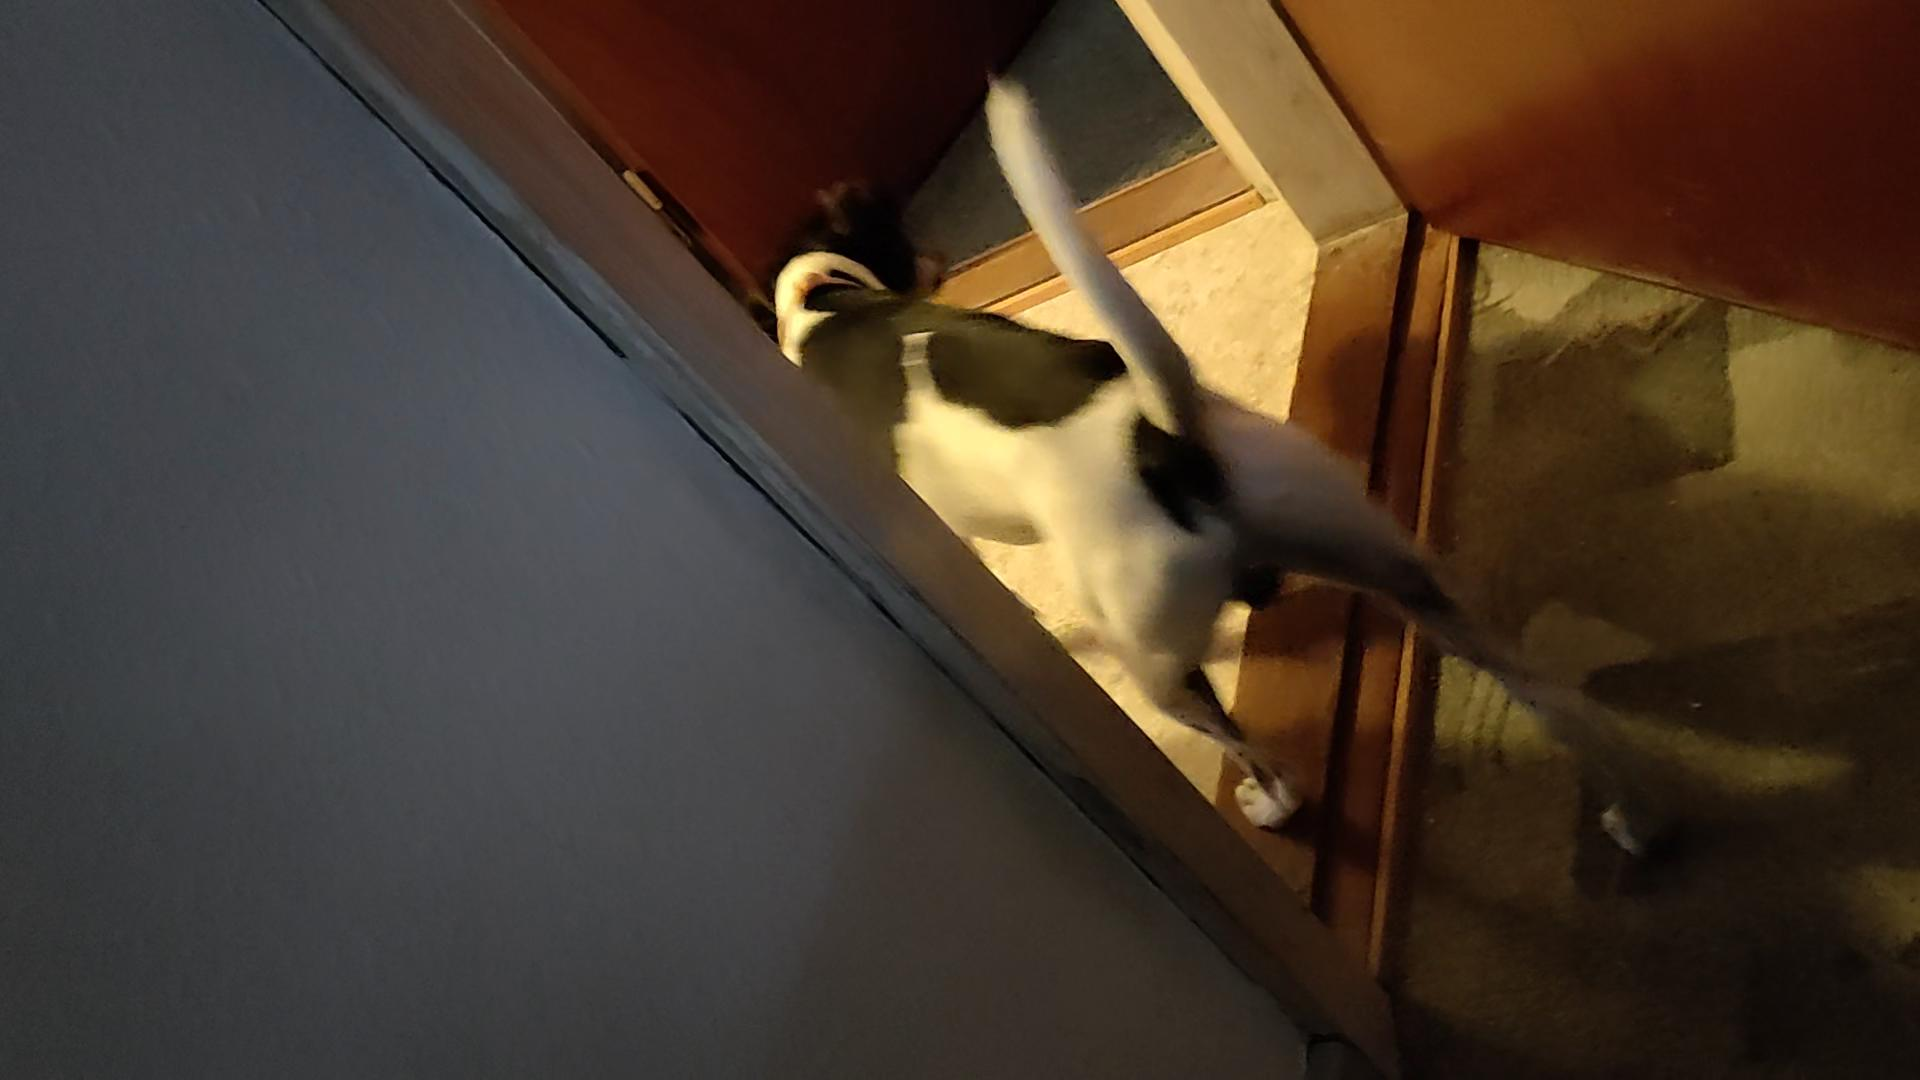Dog: (771, 74, 1669, 858)
